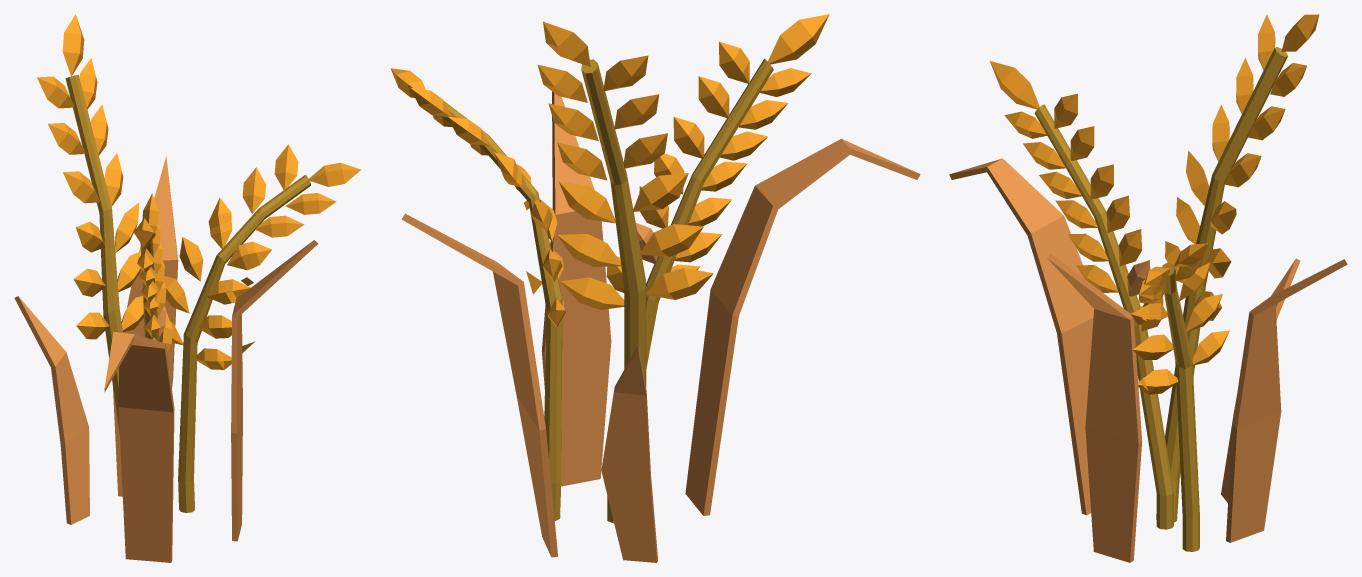
Rendered from Wheat_2.fbx.
3 views of the same model, side by side, from view 1: azimuth 30°, elevation 25°; view 2: azimuth 150°, elevation 25°; view 3: azimuth 270°, elevation 25° (orthographic). The views are drawn at different scales.
Visible parts, largest first — view 1: Wheat_2; view 2: Wheat_2; view 3: Wheat_2.
Part boxes in pixels (bbox=[...]): Wheat_2: bbox=[14, 14, 361, 562]; Wheat_2: bbox=[390, 14, 920, 562]; Wheat_2: bbox=[949, 14, 1347, 562].
Bounding box in the file's own units: 137 × 176 × 125.
